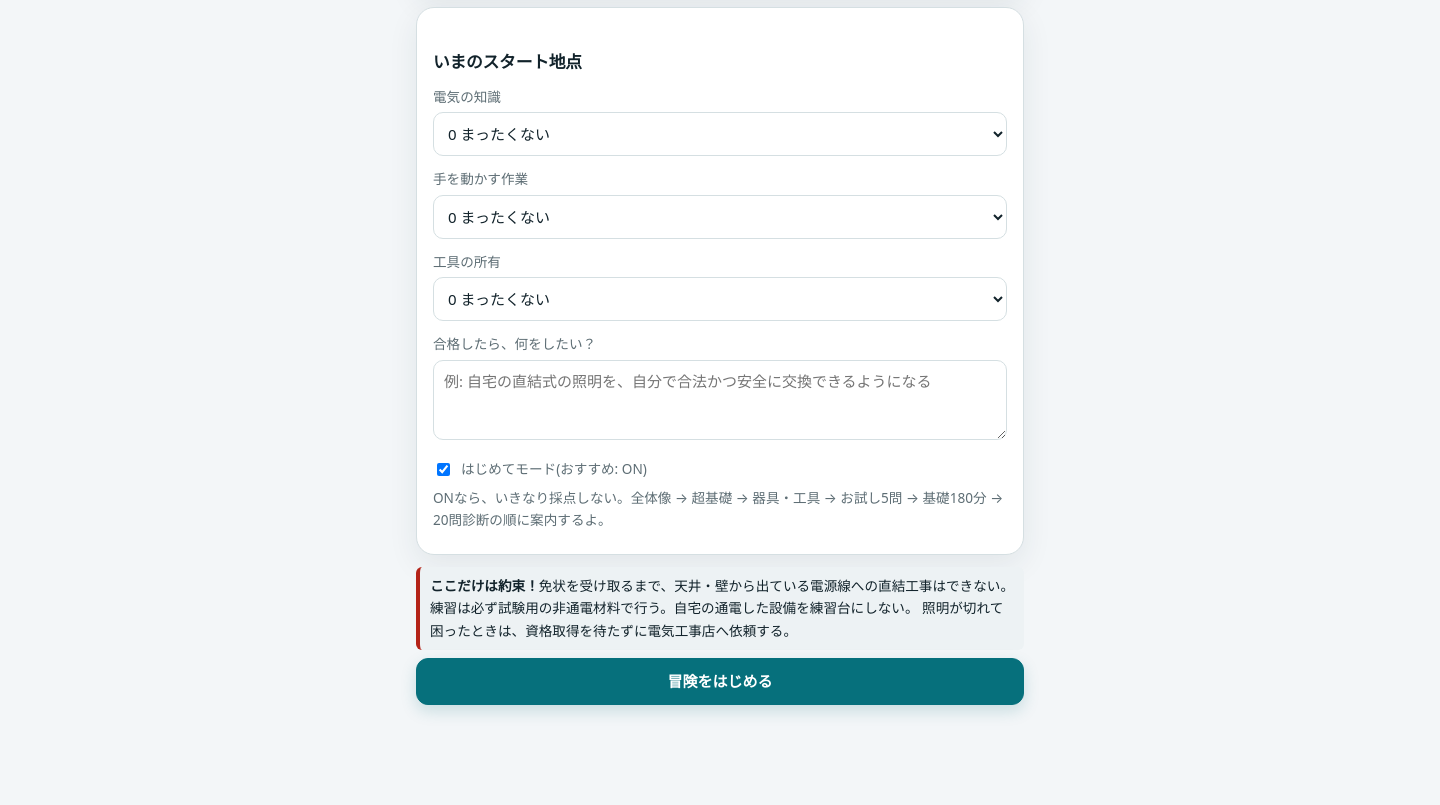
Test: Sprint 1 の通し動作 › 設定タブに端末間の同期があり、既定では未接続で外へ出ない
The image size is (1440, 805).
(page scrolled)
Click the button "冒険をはじめる".
click(720, 681)  # box [416,658,1024,705]
(page scrolled)
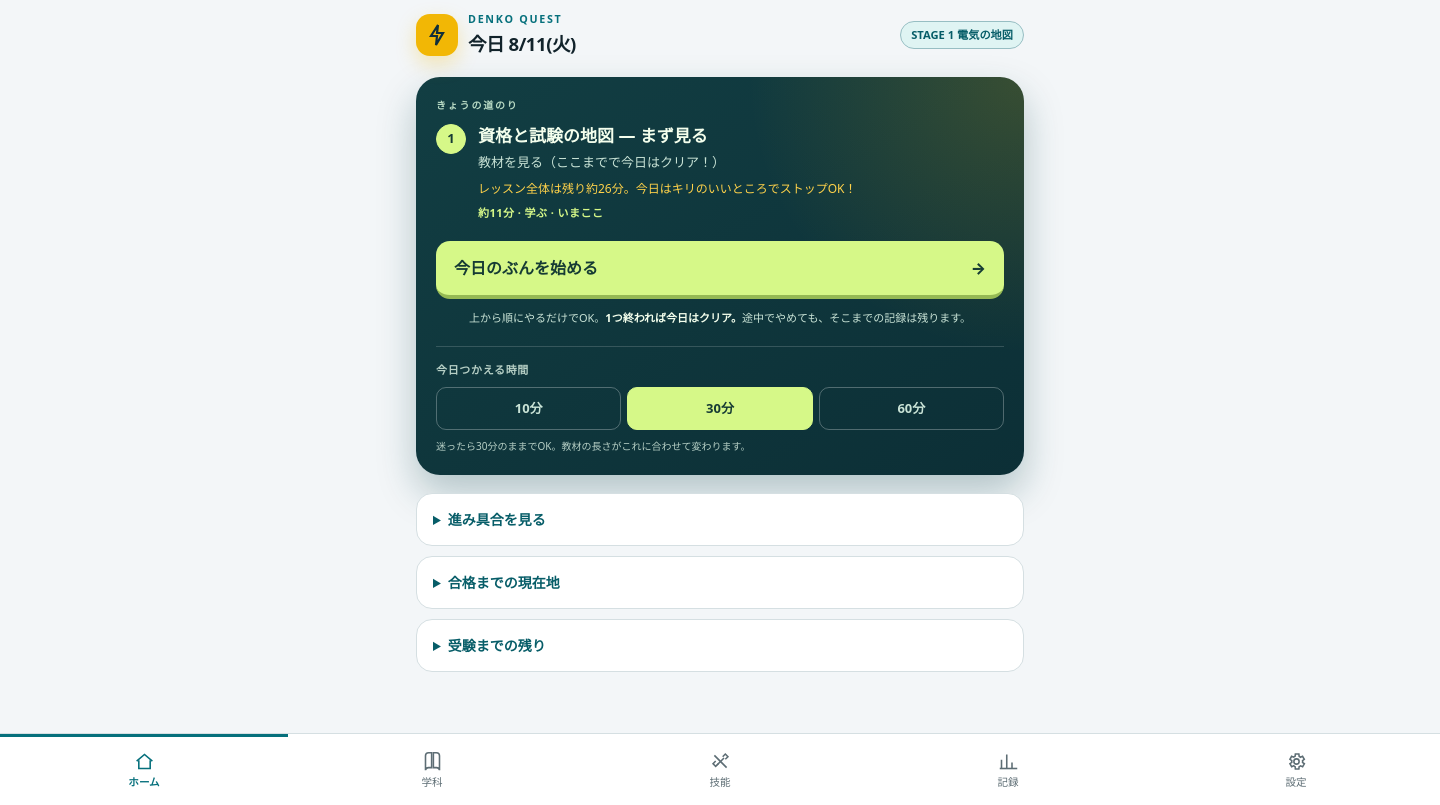
Click the button "設定".
click(1296, 770)  # box [1152,734,1439,804]
(page scrolled)
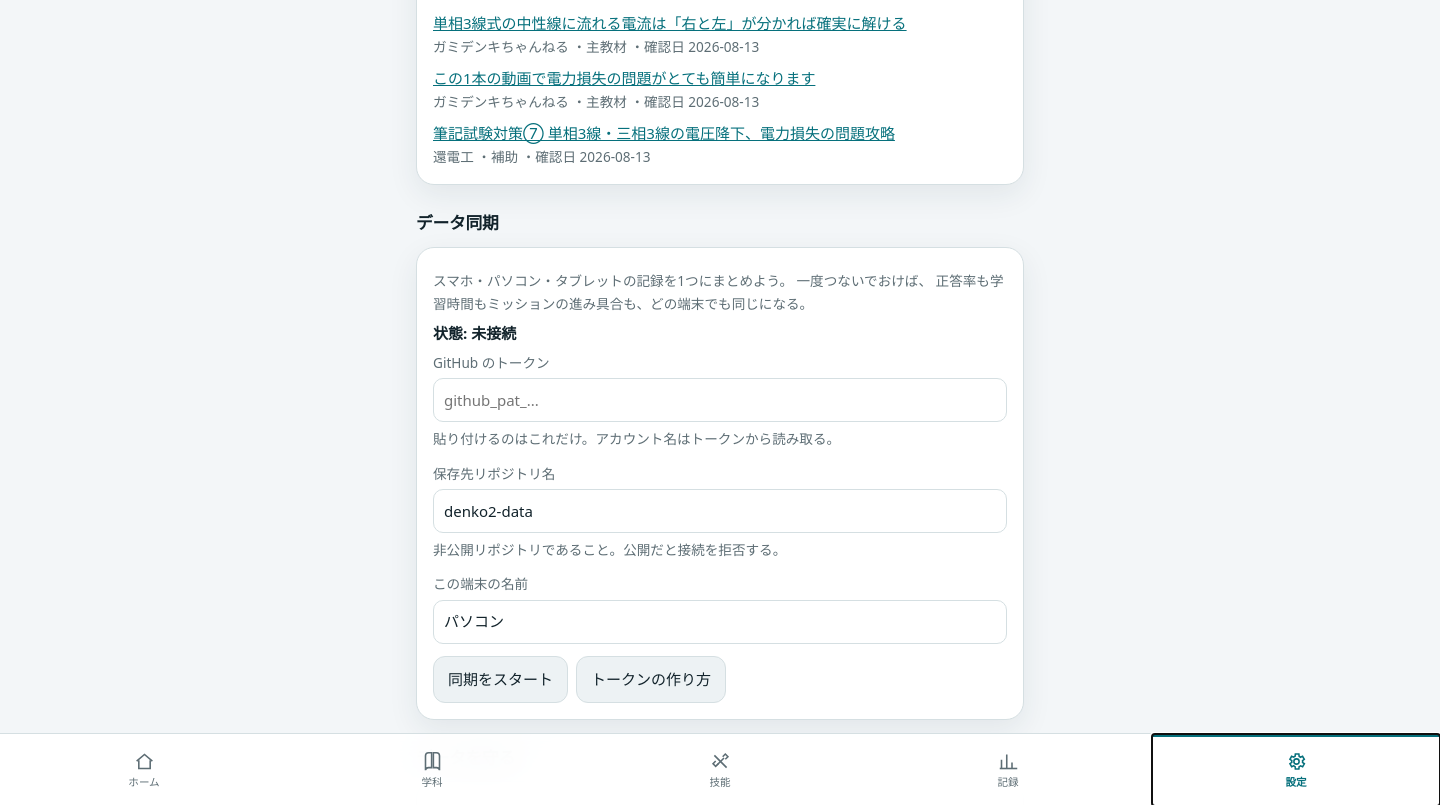
Now the heading "データ同期" is shown, box [416,211,499,234]
Now the text "状態: 未接続" is shown, box [433,323,516,343]
Now the password field labelled "GitHub のトークン" is shown, box [433,378,1007,422]
